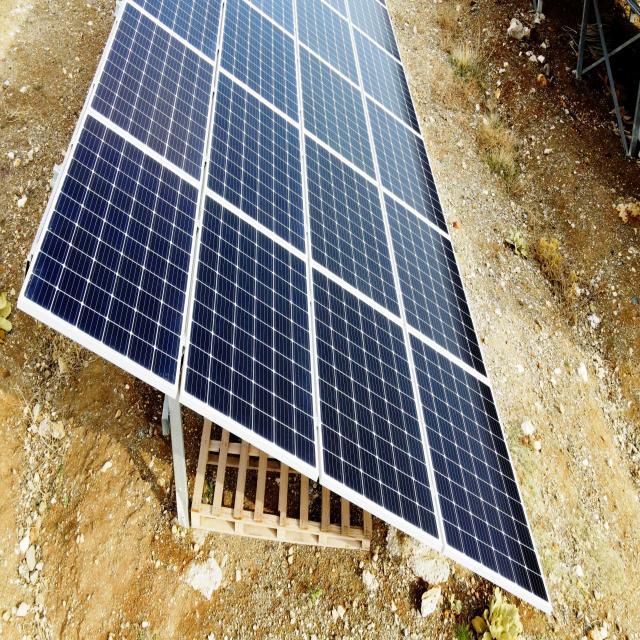no faulty: (26, 6, 552, 611)
